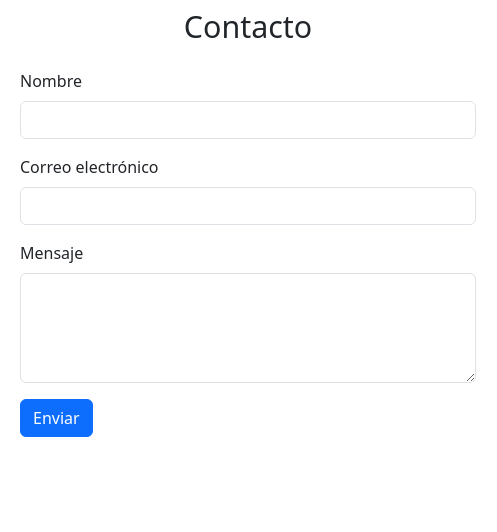
Test: ContactForm › envía los datos válidos, confirma y limpia el formulario
The image size is (497, 532).
Step 1. Type "Ada" into the field labelled "Nombre" → (248, 120), box 20,100 -> 476,138
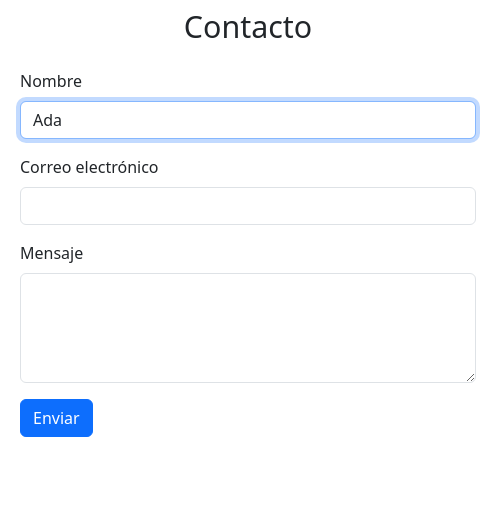
Step 2. Type "ada@correo.cl" into the field labelled "Correo electrónico" → (248, 206), box 20,186 -> 476,224
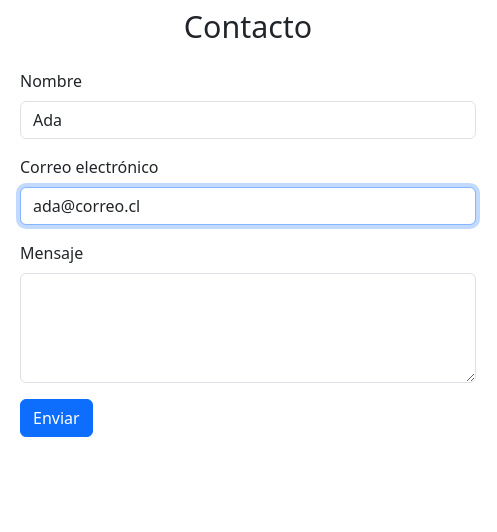
Step 3. Type "Hola, este es un mensaje." into the text box labelled "Mensaje" → (248, 328), box 20,272 -> 476,382
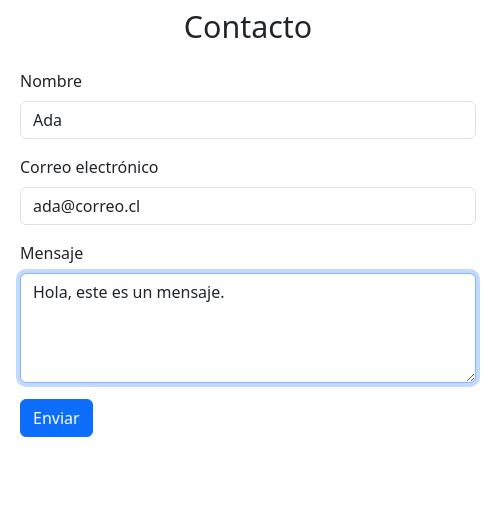
Step 4. Click the button "Enviar" → (56, 418), box 20,398 -> 93,436
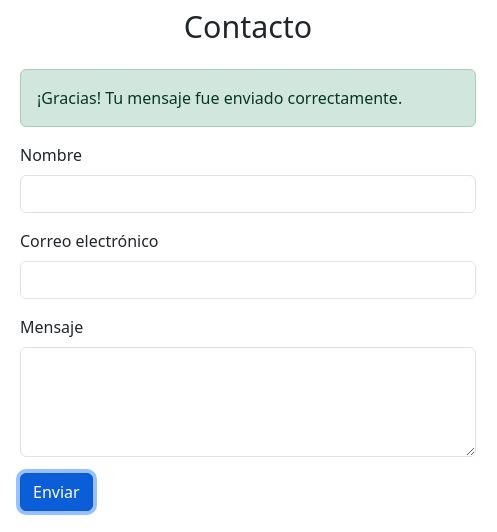
Check: the message shows "enviado correctamente", box 37,86 -> 402,108
Check: the field labelled "Nombre" is empty, box 20,174 -> 476,212
